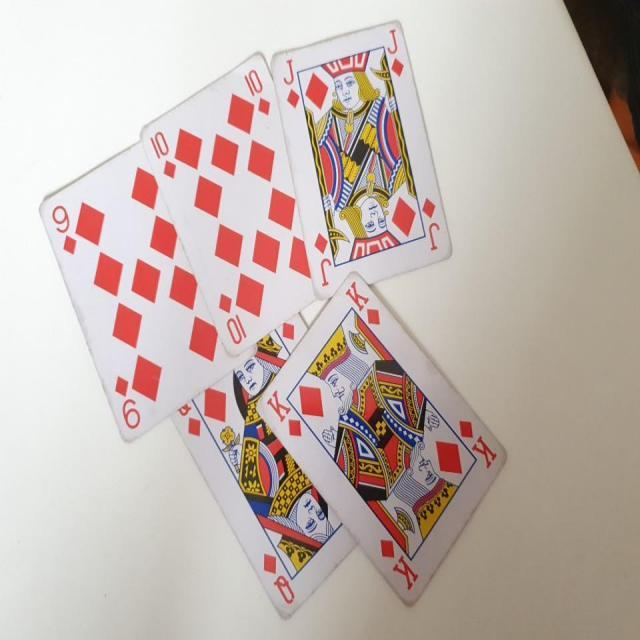10 of diamonds: (139, 48, 320, 356)
9 of diamonds: (36, 140, 256, 442)
jack of diamonds: (269, 19, 456, 300)
king of diamonds: (254, 270, 510, 607)
queen of diamonds: (170, 314, 360, 622)
